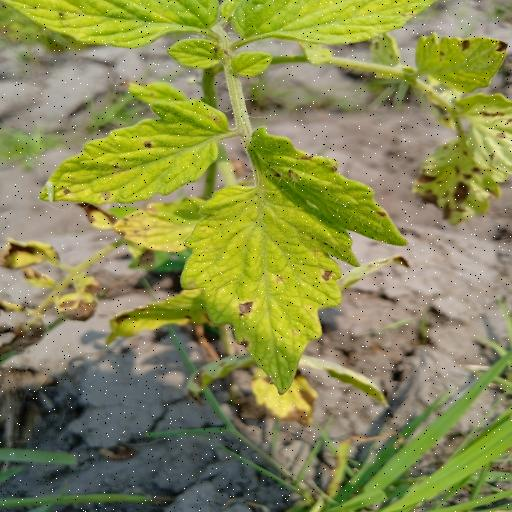Tomato_Brown_Spots: (174, 160, 365, 396), (38, 80, 242, 206), (404, 26, 512, 226)
